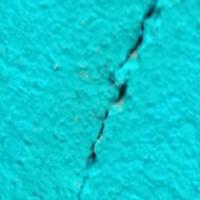crack: (77, 1, 164, 199)
